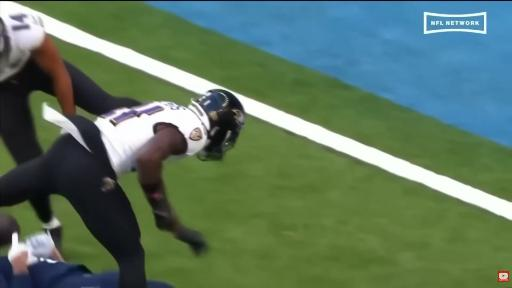Helmet: (189, 89, 245, 160), (0, 18, 10, 62)
Jersey: (95, 102, 207, 175), (0, 6, 45, 81), (29, 259, 92, 287)
Player: (0, 90, 245, 287), (0, 5, 139, 164), (0, 232, 118, 287)
